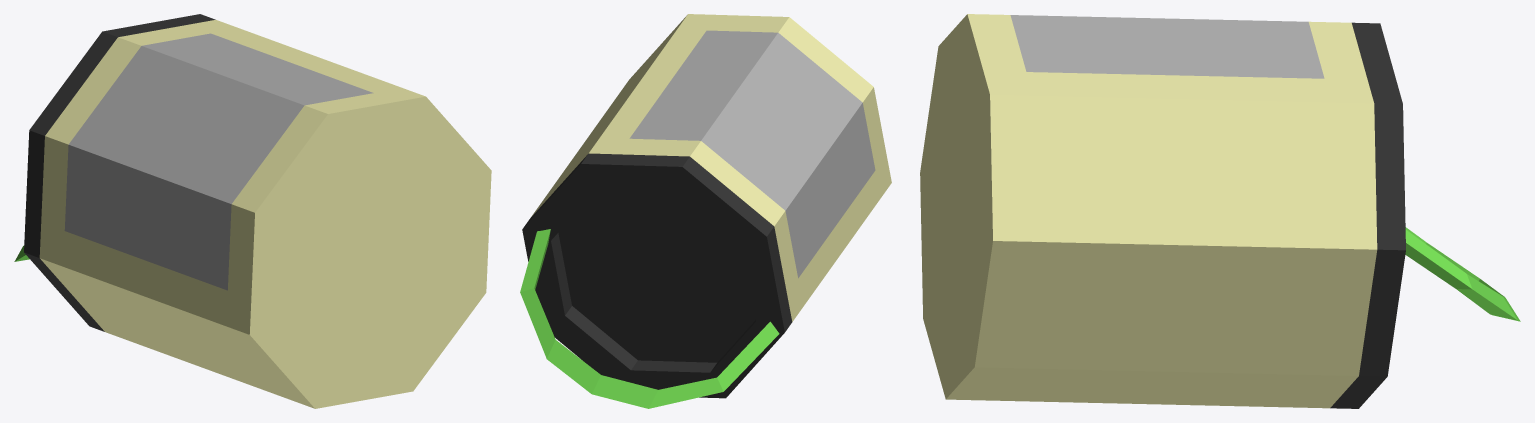
File: BaldeCaido.fbx
3 renders of one model, left to right at view 1: azimuth 30°, elevation 25°; view 2: azimuth 150°, elevation 25°; view 3: azimuth 270°, elevation 25°, orthographic. The views are drawn at different scales.
Parts seen in each view (by area): view 1: Cylinder.079; view 2: Cylinder.079; view 3: Cylinder.079.
Boxes of the visible parts, <box> form: Cylinder.079: <box>14,14,491,408</box>; Cylinder.079: <box>520,14,891,408</box>; Cylinder.079: <box>920,14,1520,408</box>.
Size of the model in its own units: 33.62 by 31.96 by 45.72.
